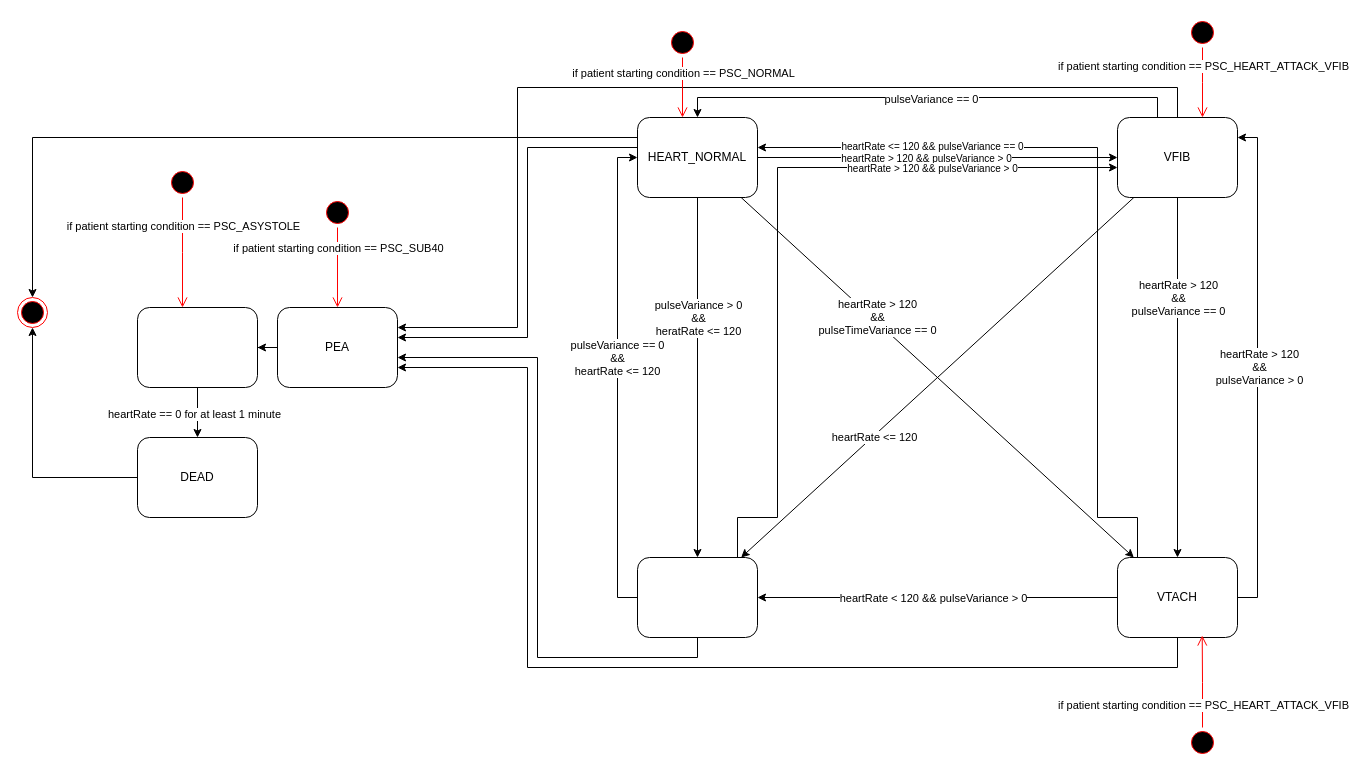
Some shapes in this 1366 by 775 pixel diagram are drawn without their labels. Here are the shapes that lost their labels. From the top down, the box of each, then its label:
(136, 306, 258, 388): ASYSTOLE
(636, 556, 758, 638): ARRYTHMIC
